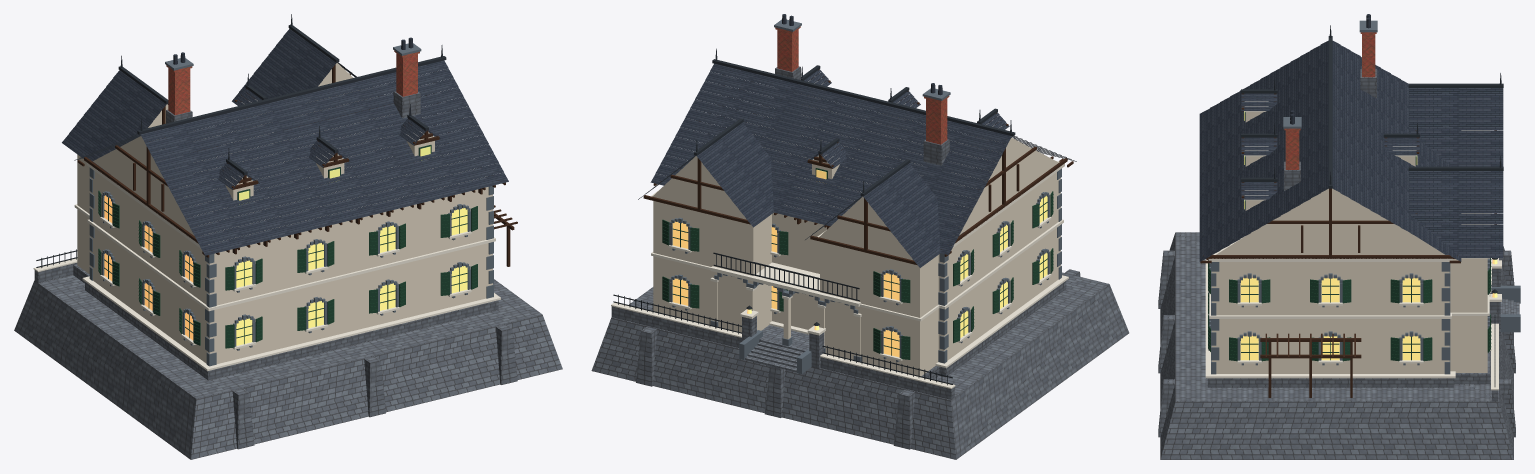
Rendered from fv_cg_03_co_giang_villa_07_09_hoa_hong_manor.glb.
3 views of the same model, side by side, from view 1: azimuth 30°, elevation 25°; view 2: azimuth 150°, elevation 25°; view 3: azimuth 270°, elevation 25° (orthographic). The views are drawn at different scales.
Visible parts, largest first — view 1: Normandy_Brittany_Layered_Roof, Foundation_Skirt_Neg3p5m, Villa_Stucco_Walls, Molded_Cornices_And_Sills, PineGreen_Louvered_Shutters, Stone_Quoins_And_Arches, Warm_Night_Windows_20h00_Blend, Exposed_Timber_Trusses_And_Rafters, Roof_Ridges_Caps_And_Finials, Brick_Chimney_Stacks; view 2: Foundation_Skirt_Neg3p5m, Villa_Stucco_Walls, Normandy_Brittany_Layered_Roof, Molded_Cornices_And_Sills, Stone_Quoins_And_Arches, PineGreen_Louvered_Shutters, Exposed_Timber_Trusses_And_Rafters, Roof_Ridges_Caps_And_Finials, Warm_Night_Windows_20h00_Blend, Wrought_Iron_Balustrades_And_Gate, Brick_Chimney_Stacks; view 3: Normandy_Brittany_Layered_Roof, Foundation_Skirt_Neg3p5m, Villa_Stucco_Walls, Molded_Cornices_And_Sills, Stone_Quoins_And_Arches, Exposed_Timber_Trusses_And_Rafters, PineGreen_Louvered_Shutters, Roof_Ridges_Caps_And_Finials, Warm_Night_Windows_20h00_Blend, Brick_Chimney_Stacks.
Part boxes in pixels (x1=…): Normandy_Brittany_Layered_Roof: x1=62, y1=28, x2=508, y2=255; Foundation_Skirt_Neg3p5m: x1=14, y1=91, x2=562, y2=459; Villa_Stucco_Walls: x1=77, y1=63, x2=492, y2=363; Molded_Cornices_And_Sills: x1=33, y1=99, x2=500, y2=371; PineGreen_Louvered_Shutters: x1=98, y1=145, x2=477, y2=348; Stone_Quoins_And_Arches: x1=89, y1=43, x2=493, y2=366; Warm_Night_Windows_20h00_Blend: x1=104, y1=146, x2=467, y2=345; Exposed_Timber_Trusses_And_Rafters: x1=77, y1=64, x2=517, y2=266; Roof_Ridges_Caps_And_Finials: x1=74, y1=14, x2=446, y2=183; Brick_Chimney_Stacks: x1=166, y1=50, x2=419, y2=115; Foundation_Skirt_Neg3p5m: x1=591, y1=66, x2=1129, y2=459; Villa_Stucco_Walls: x1=652, y1=93, x2=1060, y2=376; Normandy_Brittany_Layered_Roof: x1=644, y1=14, x2=1011, y2=267; Molded_Cornices_And_Sills: x1=611, y1=80, x2=1068, y2=388; Stone_Quoins_And_Arches: x1=669, y1=19, x2=1061, y2=373; PineGreen_Louvered_Shutters: x1=662, y1=168, x2=1053, y2=359; Exposed_Timber_Trusses_And_Rafters: x1=643, y1=69, x2=1073, y2=265; Roof_Ridges_Caps_And_Finials: x1=638, y1=48, x2=1076, y2=239; Warm_Night_Windows_20h00_Blend: x1=672, y1=169, x2=1047, y2=357; Wrought_Iron_Balustrades_And_Gate: x1=613, y1=252, x2=952, y2=385; Brick_Chimney_Stacks: x1=775, y1=26, x2=949, y2=144; Normandy_Brittany_Layered_Roof: x1=1199, y1=14, x2=1503, y2=261; Foundation_Skirt_Neg3p5m: x1=1158, y1=69, x2=1519, y2=459; Villa_Stucco_Walls: x1=1211, y1=112, x2=1487, y2=373; Molded_Cornices_And_Sills: x1=1205, y1=101, x2=1501, y2=390; Stone_Quoins_And_Arches: x1=1209, y1=20, x2=1520, y2=374; Exposed_Timber_Trusses_And_Rafters: x1=1200, y1=93, x2=1496, y2=397; PineGreen_Louvered_Shutters: x1=1208, y1=112, x2=1491, y2=361; Roof_Ridges_Caps_And_Finials: x1=1241, y1=25, x2=1503, y2=188; Warm_Night_Windows_20h00_Blend: x1=1240, y1=111, x2=1497, y2=360; Brick_Chimney_Stacks: x1=1284, y1=32, x2=1376, y2=169.
Bounding box in the file's own units: 26.52 × 20.5 × 21.93.
Materials: 12 (3 with a texture image).
